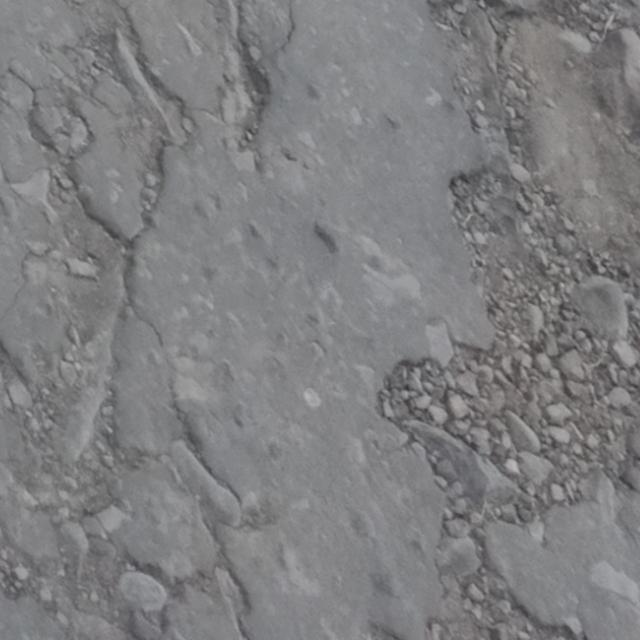lubang_kecil: (302, 0, 640, 530)
